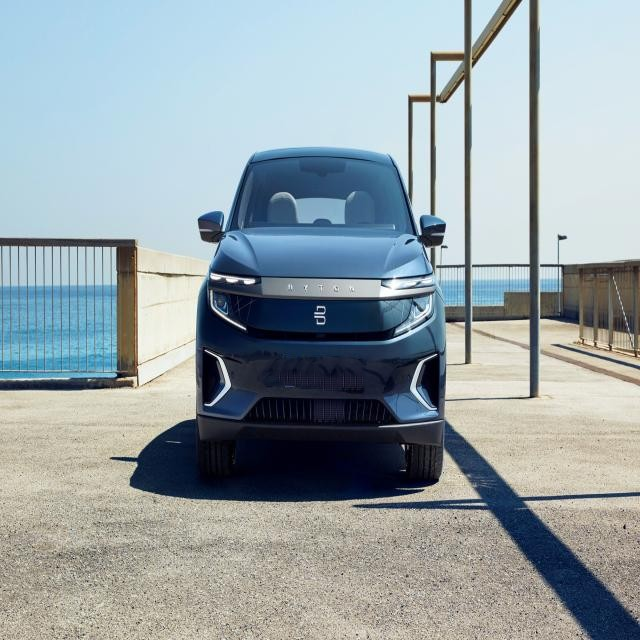car: (194, 141, 446, 484)
